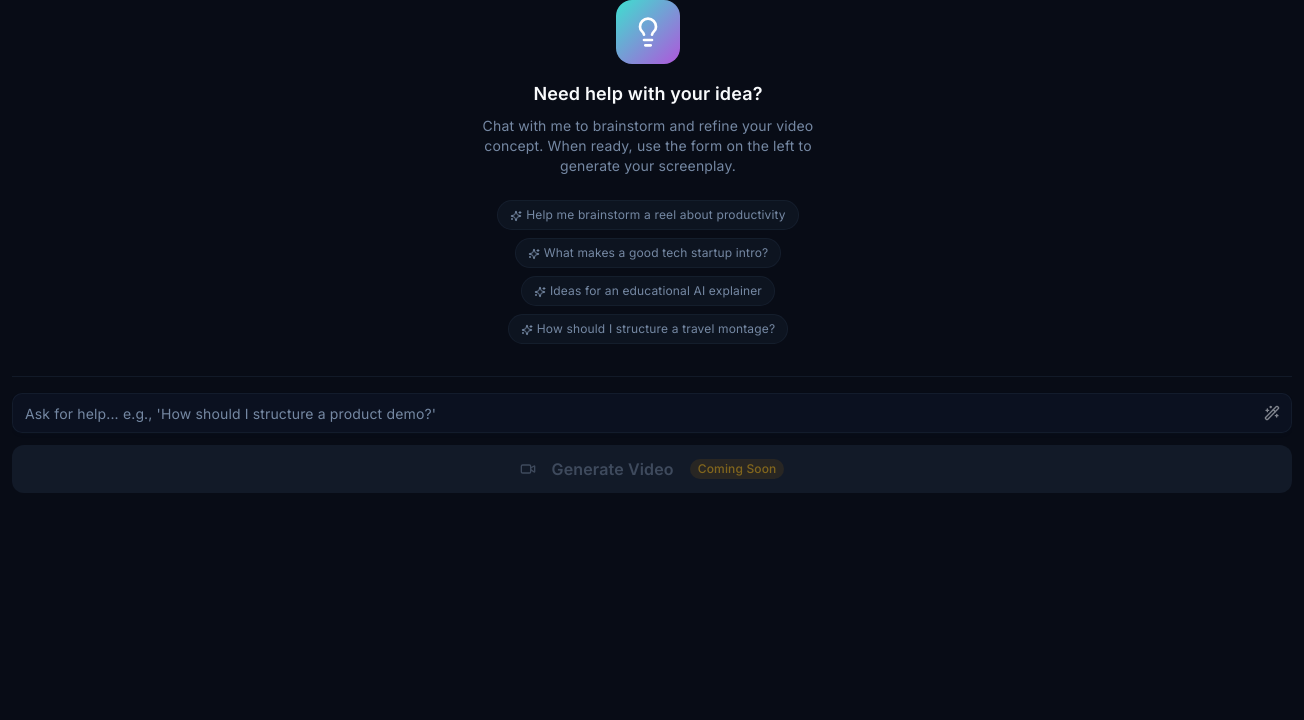
it: ChatPanel › Message sending › should add assistant response after user message in ideation mode
Type "Help me with video ideas" into the field with placeholder "Ask for help" at coordinates (652, 413), box left=12, top=393, right=1292, bottom=433
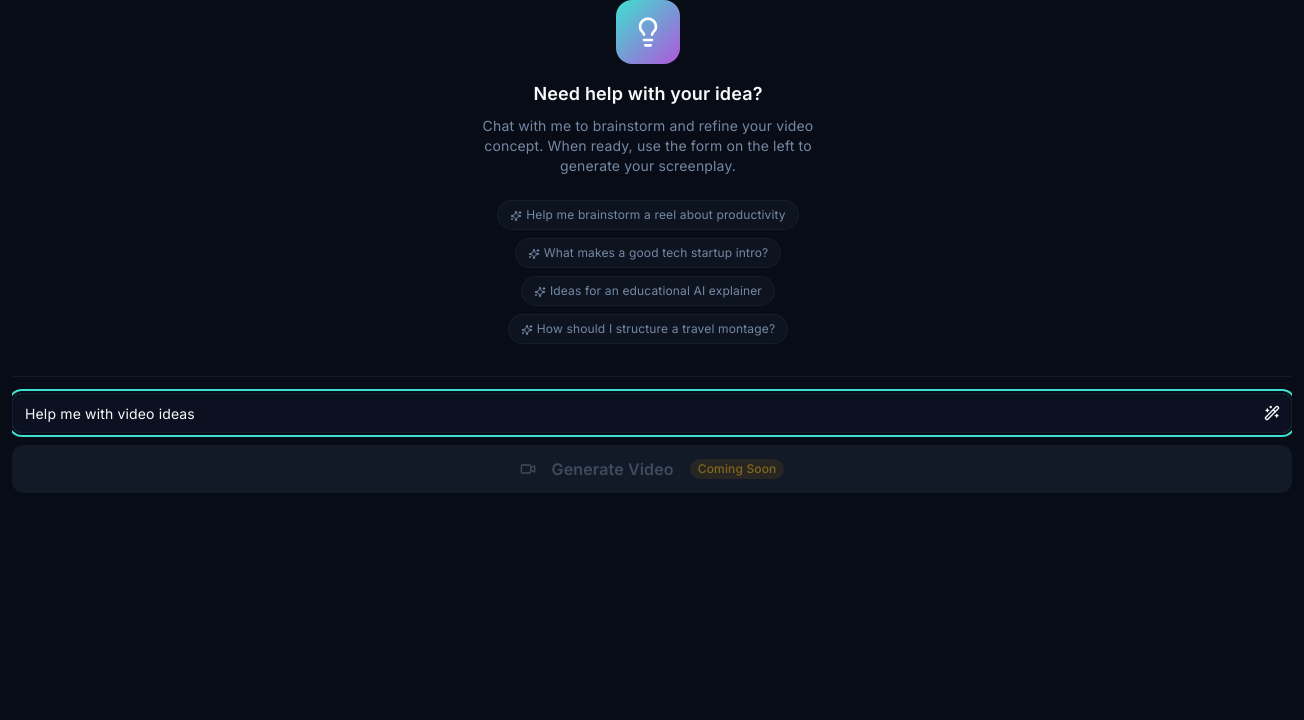
Press Enter
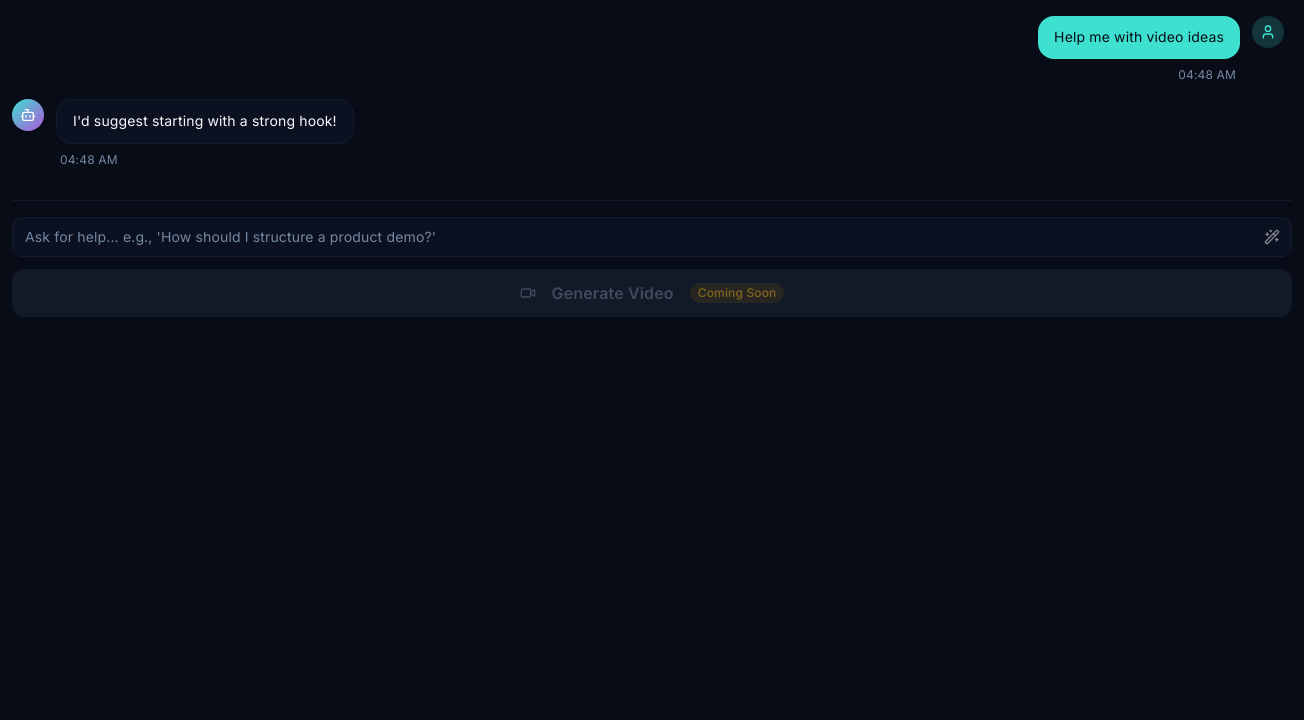
Expected: the text "I'd suggest starting with a strong hook!" is shown, left=73, top=110, right=337, bottom=133
